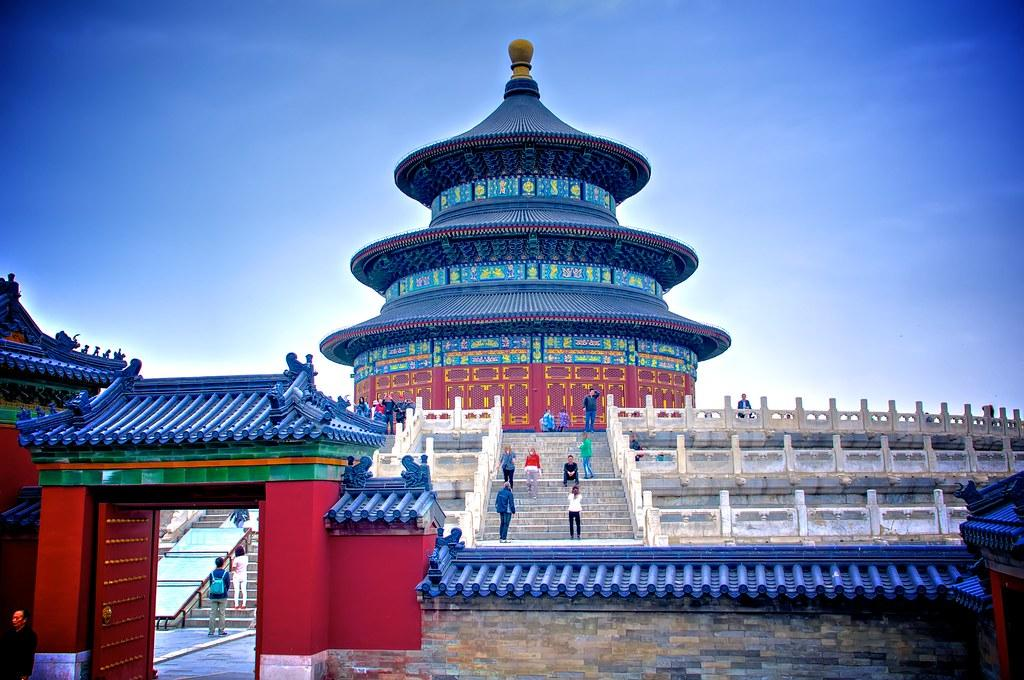temple: (2, 36, 1022, 679), (318, 37, 733, 433)
